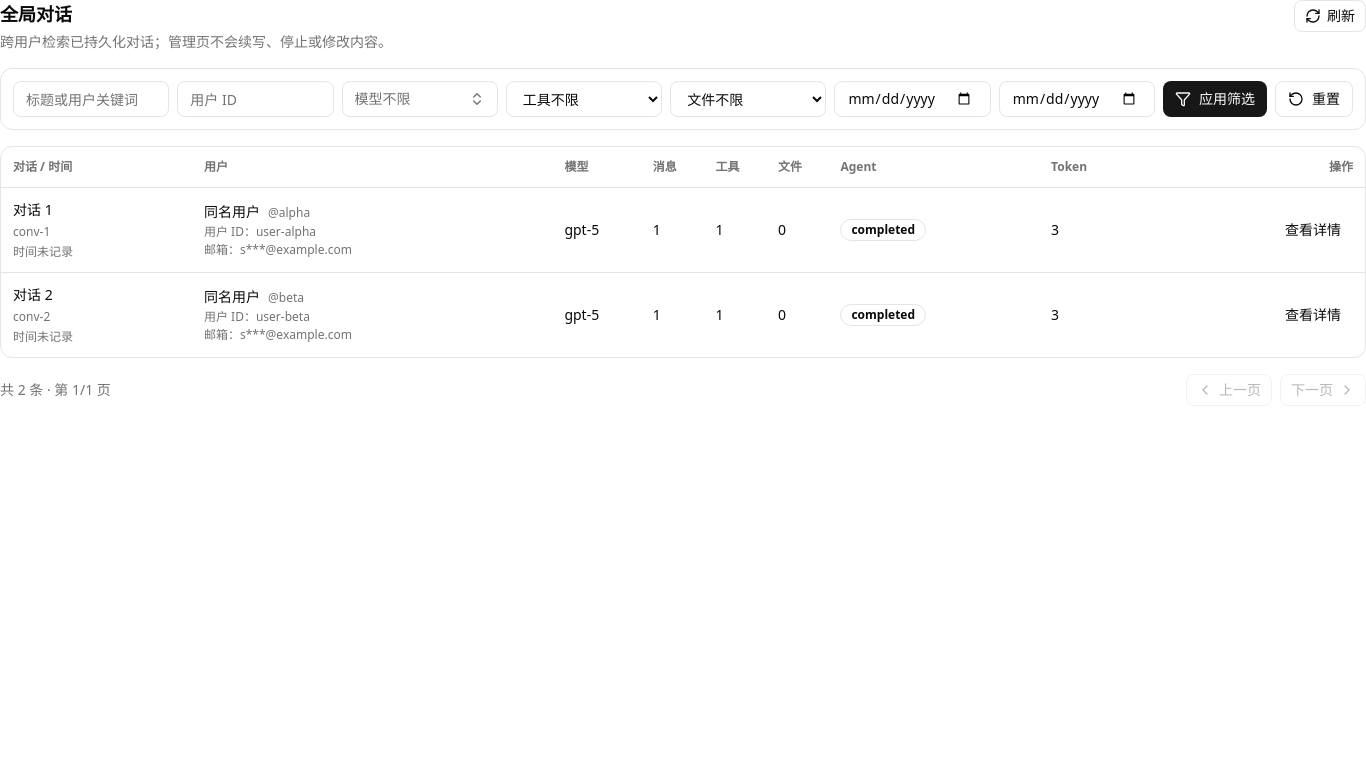
Scenario: AdminConversationsPanel › 模型筛选默认不限，并可按名称或 ID 搜索目录选项
Expected: the text "对话 1" is shown, [13,200,53,219]
Click the dropdown named "模型筛选". click: (420, 99)
box: [342,81,498,117]
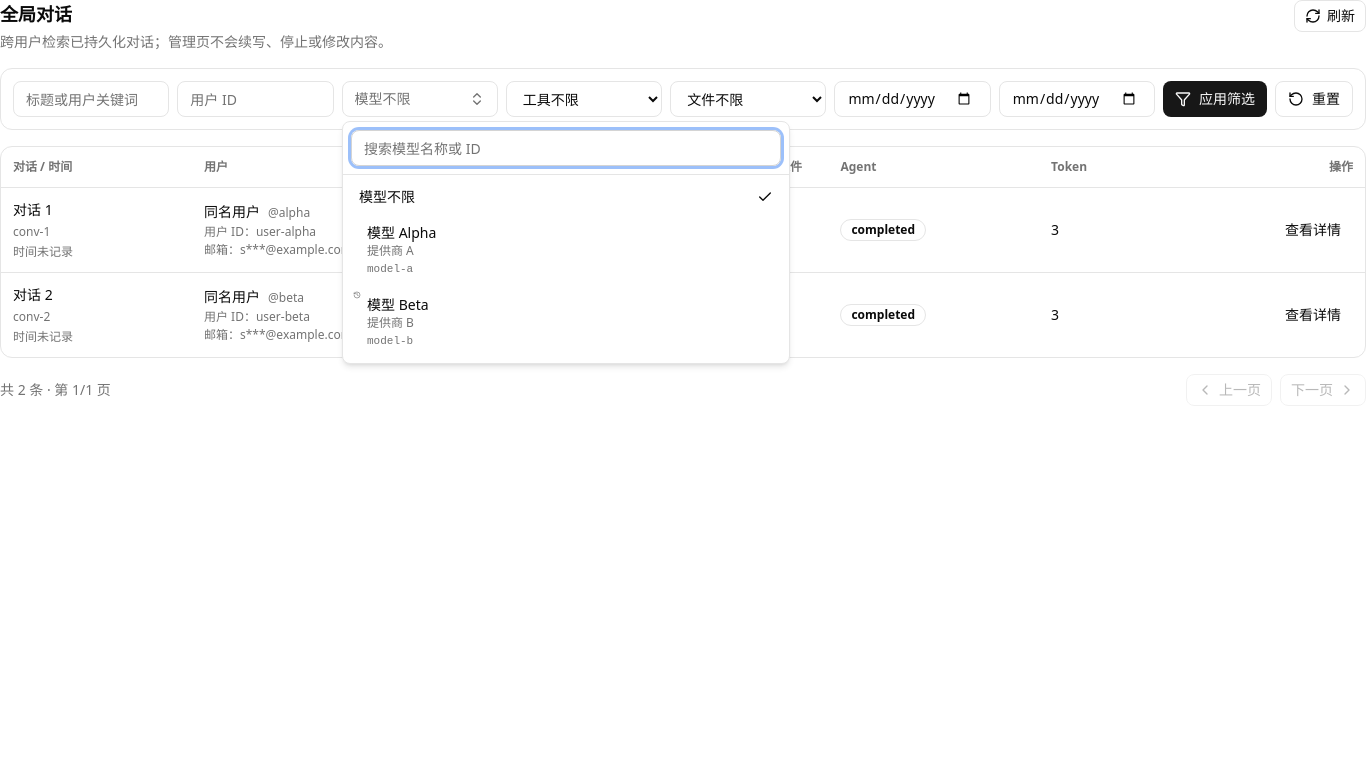
Expected: the option "模型 Alpha 提供商 A model-a" is shown, [347,215,785,287]
Expected: the option "模型 Beta 提供商 B model-b" is shown, [347,287,785,359]
Type "beta" into the search field labelled "搜索模型". click: (566, 148)
box: [351,130,781,166]
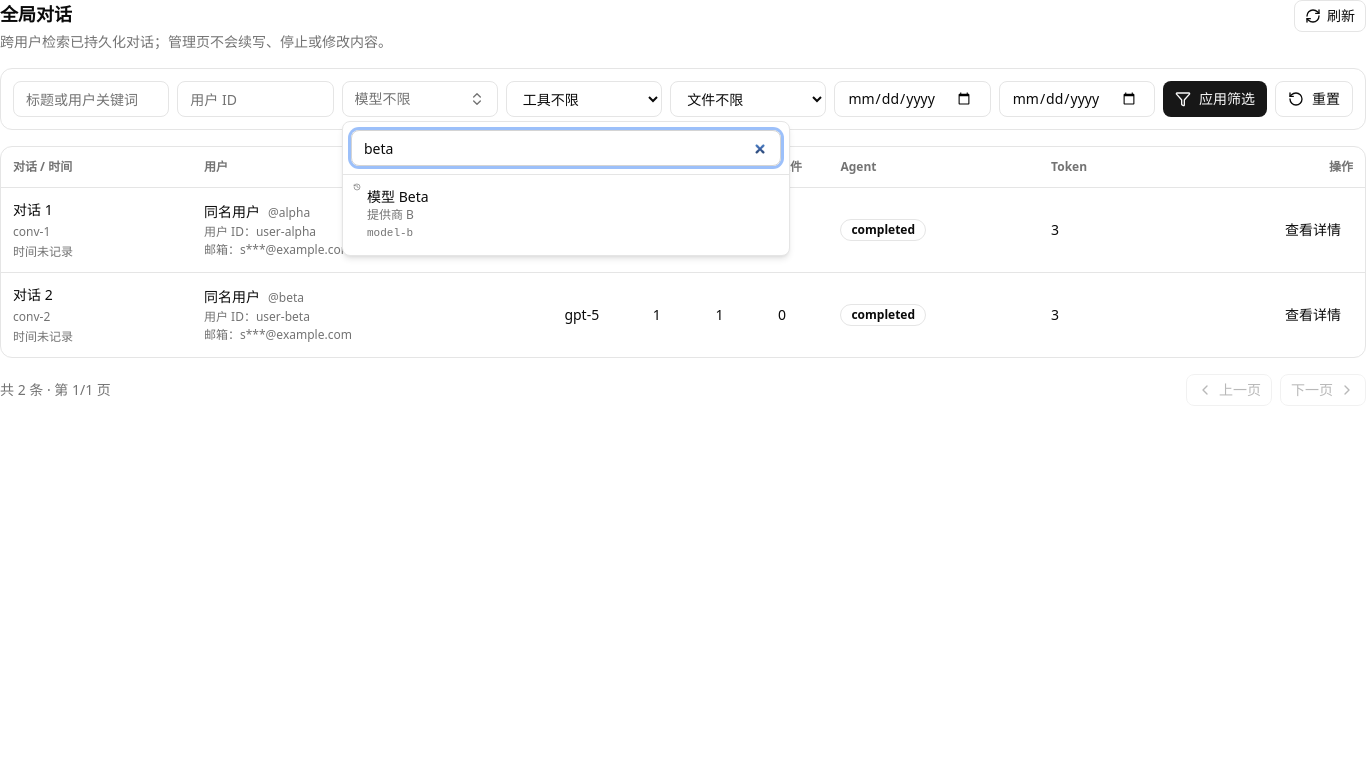
Expected: the option "模型 Beta 提供商 B model-b" is shown, [347,179,785,251]
Expected: the option "模型 Alpha" is gone
Replace the text in the search field named "搜索模型" with "model-a". click: (566, 148)
box: [351,130,781,166]
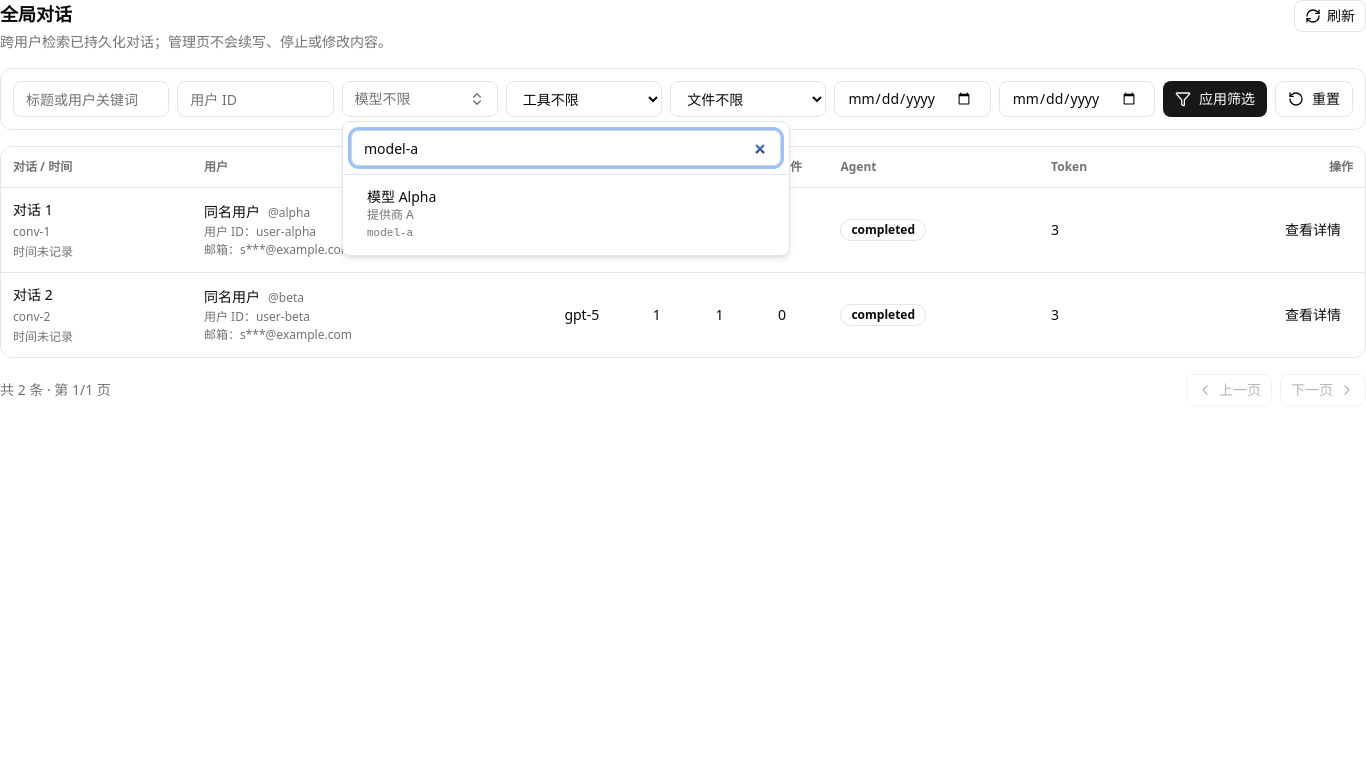
Expected: the option "模型 Alpha 提供商 A model-a" is shown, [347,179,785,251]
